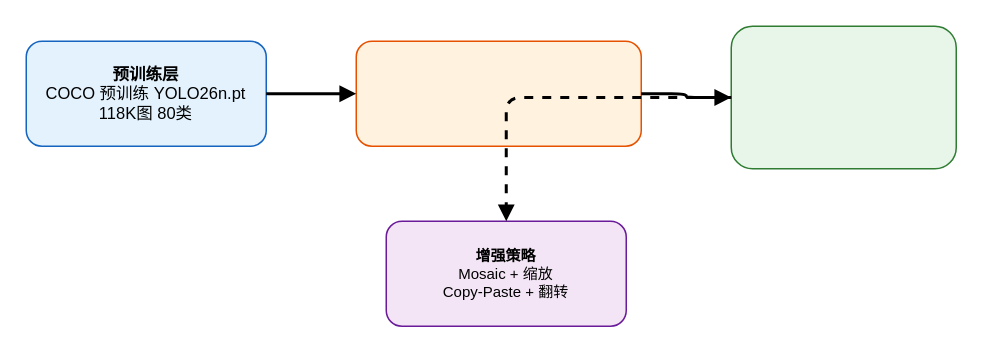
The diagram is 983 pixels wide and 353 high, and some of its shapes have lost their labels. Each missing label, with the centre of its shape:
"微调层 1 UA-DETRAC 140K帧车辆 CrowdHuman 15K图行人" belongs at (x=498, y=93).
"微调层 2 ParkScope 违停 URFD 跌倒 S-YOLOv5 抛物" belongs at (x=843, y=97).
